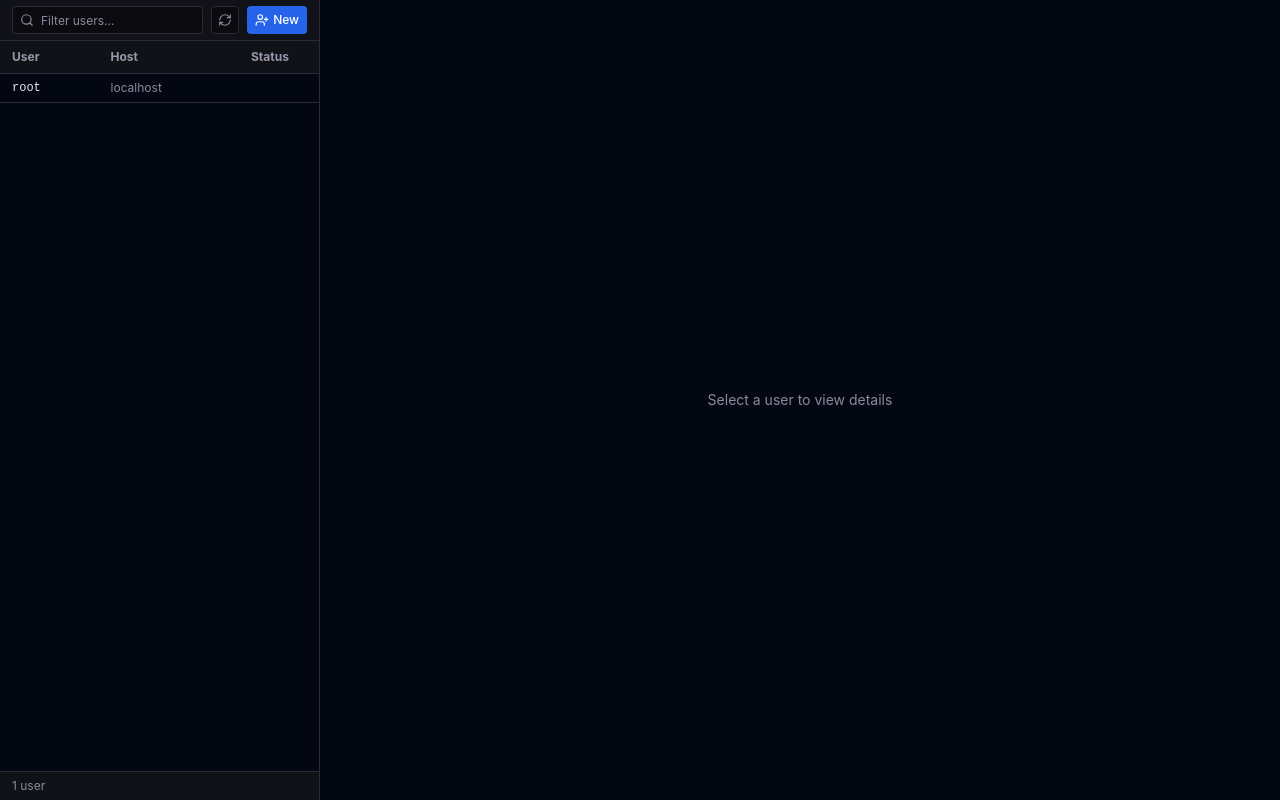
Scenario: UserManagement › shows user detail when a user row is clicked
The image size is (1280, 800).
Click the text "root" at (26, 88), box [0,74,98,102]
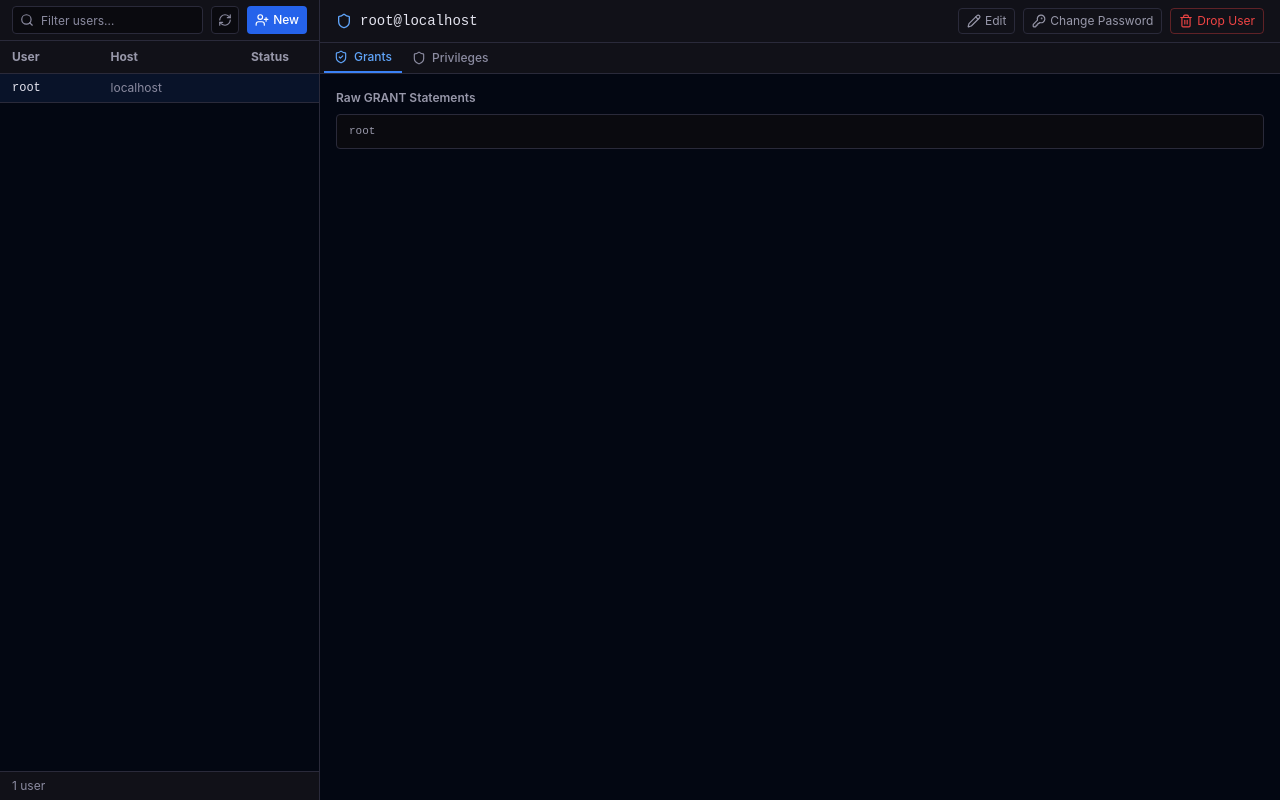
Expected: the text "root@localhost" is shown, [360,11,478,31]
Expected: the button "Grants" is shown, [324,43,402,73]
Expected: the button "Privileges" is shown, [402,43,498,73]
